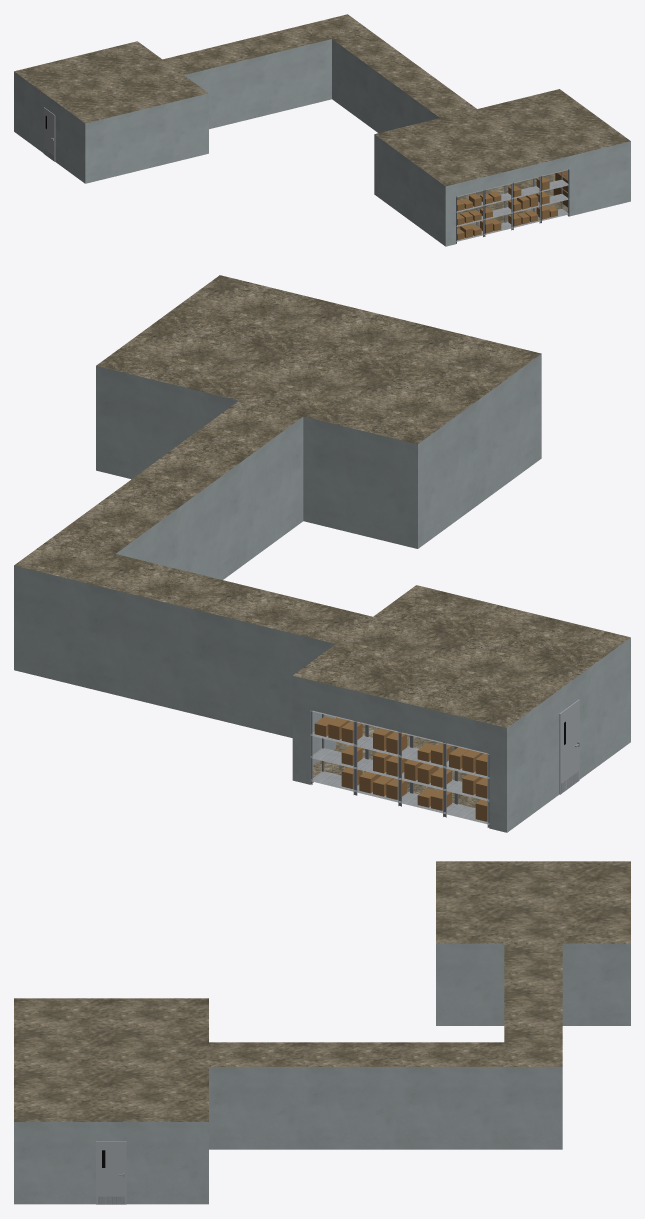
Rendered from hidden_entry.glb.
The picture shows the model from 3 angles, top to bottom: view 1: azimuth 30°, elevation 25°; view 2: azimuth 150°, elevation 25°; view 3: azimuth 270°, elevation 25°; orthographic projection. The views are drawn at different scales.
Visible parts, largest first — view 1: Wall_Service, Ceiling_Concrete, Cardboard, Steel, Floor_Concrete, Paint_Grey, DoorLeaf_repeating_room; view 2: Wall_Service, Ceiling_Concrete, Cardboard, Steel, Paint_Grey, DoorLeaf_repeating_room, Floor_Concrete; view 3: Wall_Service, Ceiling_Concrete, DoorLeaf_corridors_a.
Boxes of the visible parts, bbox=[...] form: Wall_Service: bbox=[14, 39, 630, 246]; Ceiling_Concrete: bbox=[14, 14, 630, 186]; Cardboard: bbox=[457, 177, 557, 240]; Steel: bbox=[456, 169, 568, 241]; Floor_Concrete: bbox=[457, 173, 567, 228]; Paint_Grey: bbox=[456, 169, 569, 243]; DoorLeaf_repeating_room: bbox=[43, 107, 55, 161]; Wall_Service: bbox=[14, 354, 630, 832]; Ceiling_Concrete: bbox=[14, 275, 630, 727]; Cardboard: bbox=[314, 716, 487, 821]; Steel: bbox=[310, 710, 489, 824]; Paint_Grey: bbox=[310, 710, 489, 827]; DoorLeaf_repeating_room: bbox=[559, 699, 579, 794]; Floor_Concrete: bbox=[312, 717, 480, 807]; Wall_Service: bbox=[14, 943, 630, 1204]; Ceiling_Concrete: bbox=[14, 861, 630, 1121]; DoorLeaf_corridors_a: bbox=[96, 1141, 126, 1204].
Bounding box in the file's own units: 19.15 × 2.8 × 19.
19 materials, 7 textured.
